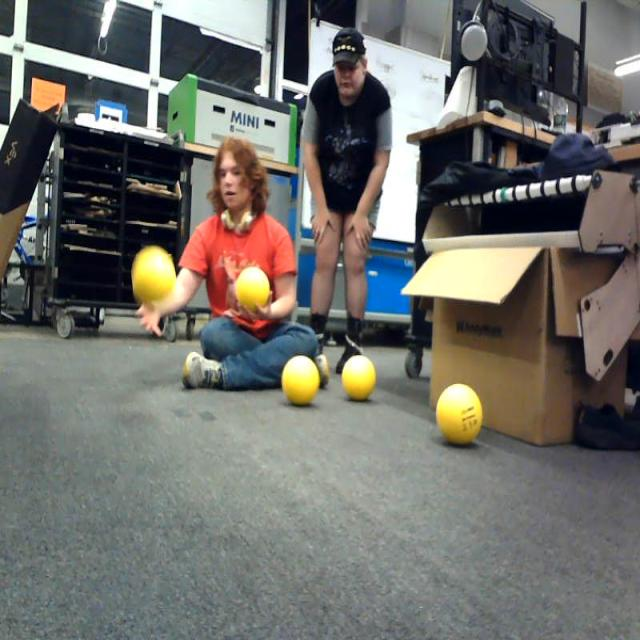Fuel: (436, 383, 483, 447), (132, 245, 176, 308), (282, 355, 320, 406), (235, 266, 270, 314), (342, 354, 376, 402)
